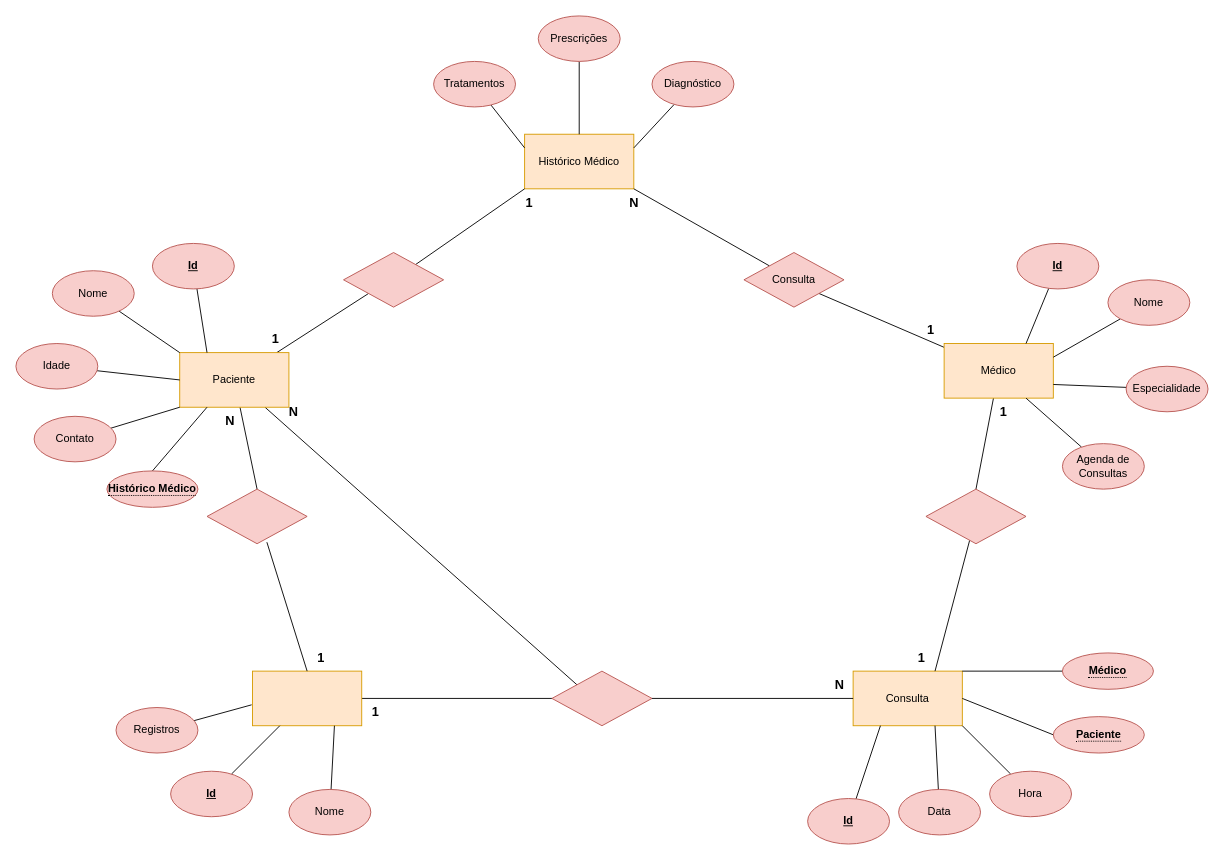
Some shapes in this 1224 by 860 pixel diagram are drawn without their labels. The shapes that lost their labels are listed below. From the top down, each one's centre as x and y in pixels, then its label:
the point at 393,279: Possui
the point at 256,516: Atende
the point at 975,516: Realiza
the point at 307,698: Recepcionista
the point at 601,698: Marca
